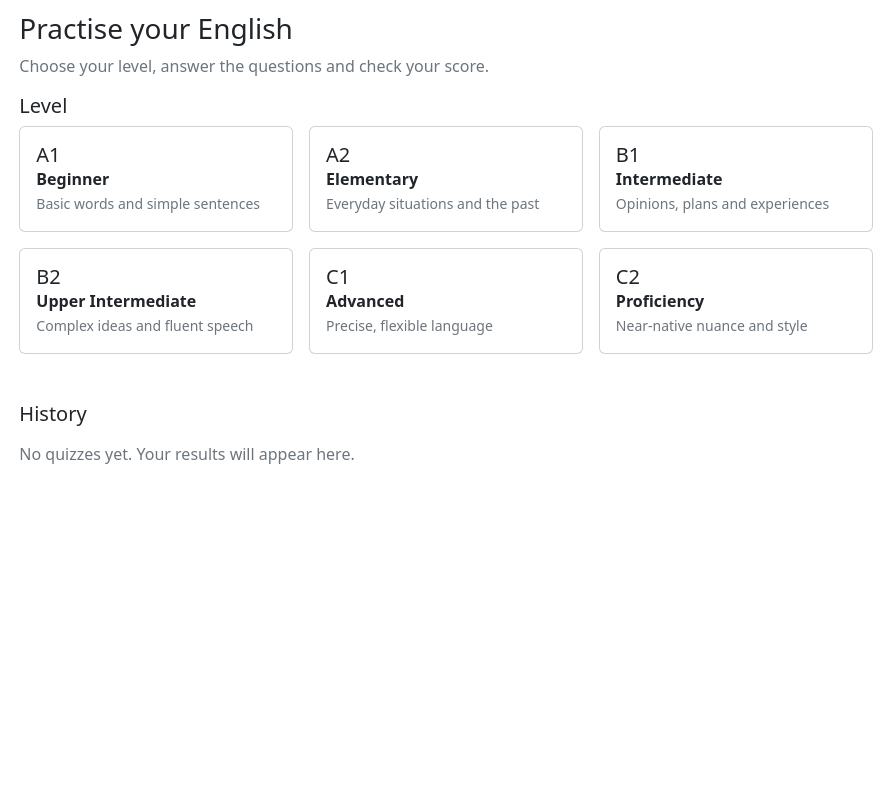
Test case: QuizSetupPage topic filter › starts with all topics when none is selected, and "All topics" clears the selection
The width and height of the screenshot is (893, 806).
Step 1. Click the radio button labelled "A1 Beginner Basic words and simple sentences" → x=156, y=179, box [19,126,293,232]
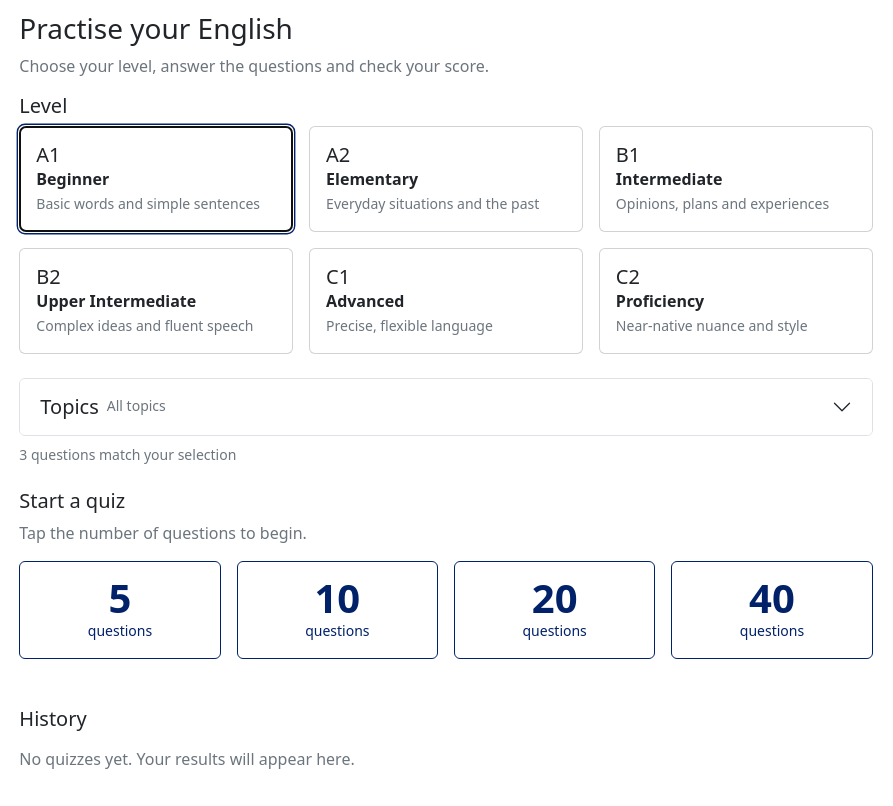
Step 2. Click the button "Topics All topics" → x=70, y=406, box [20,379,872,435]
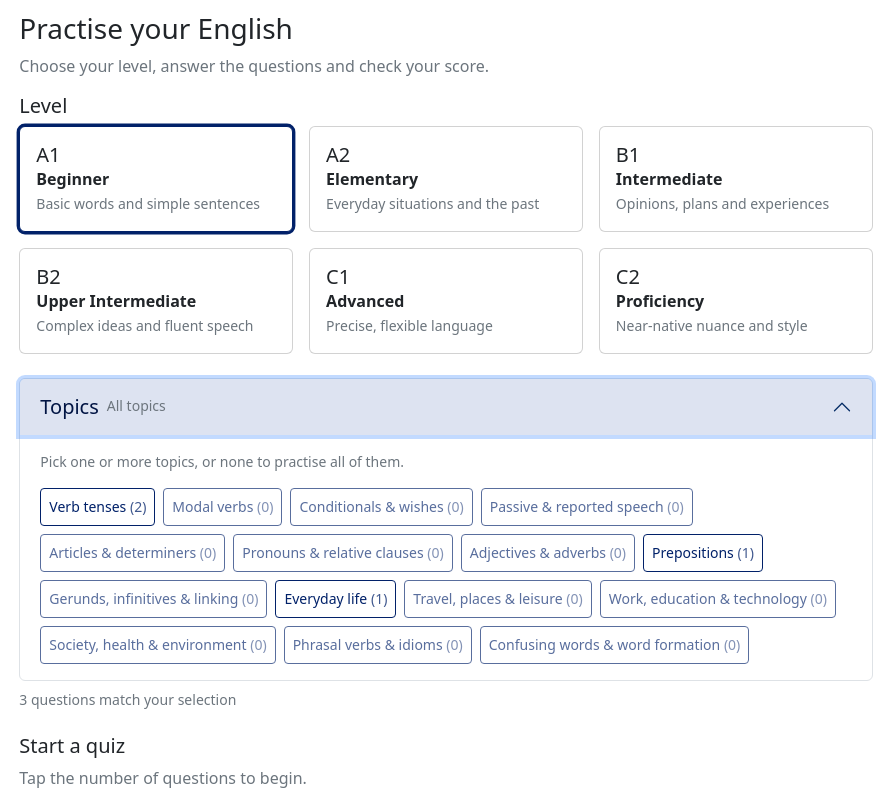
Step 3. Click the button "Everyday life (1)" → x=336, y=599, box [275,580,396,618]
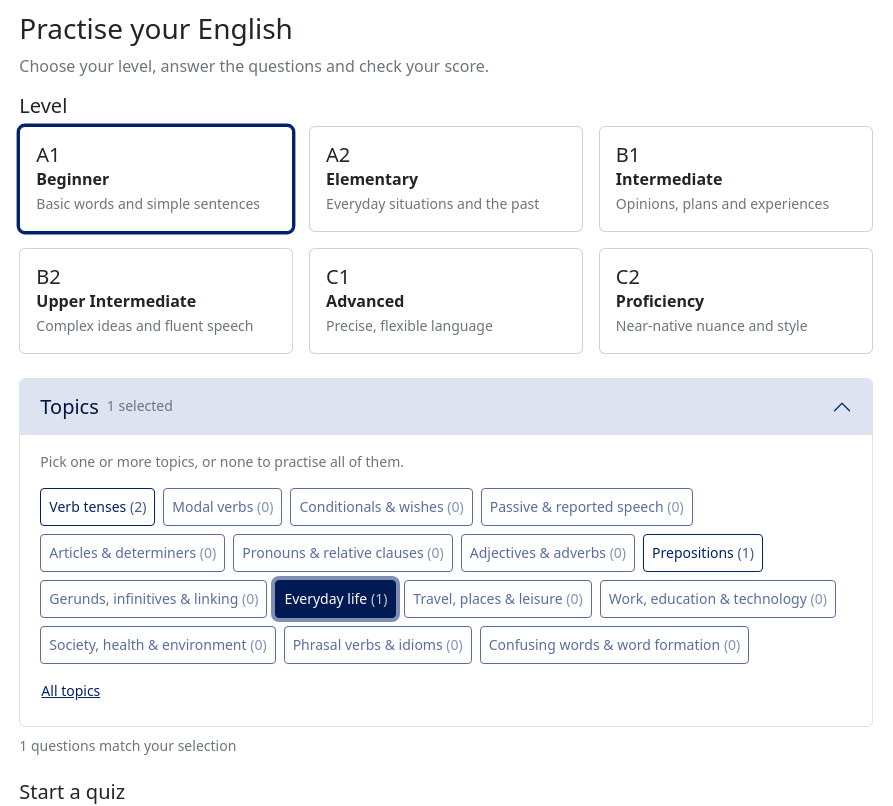
Step 4. Click the button "All topics" → x=71, y=691, box [40,672,101,710]
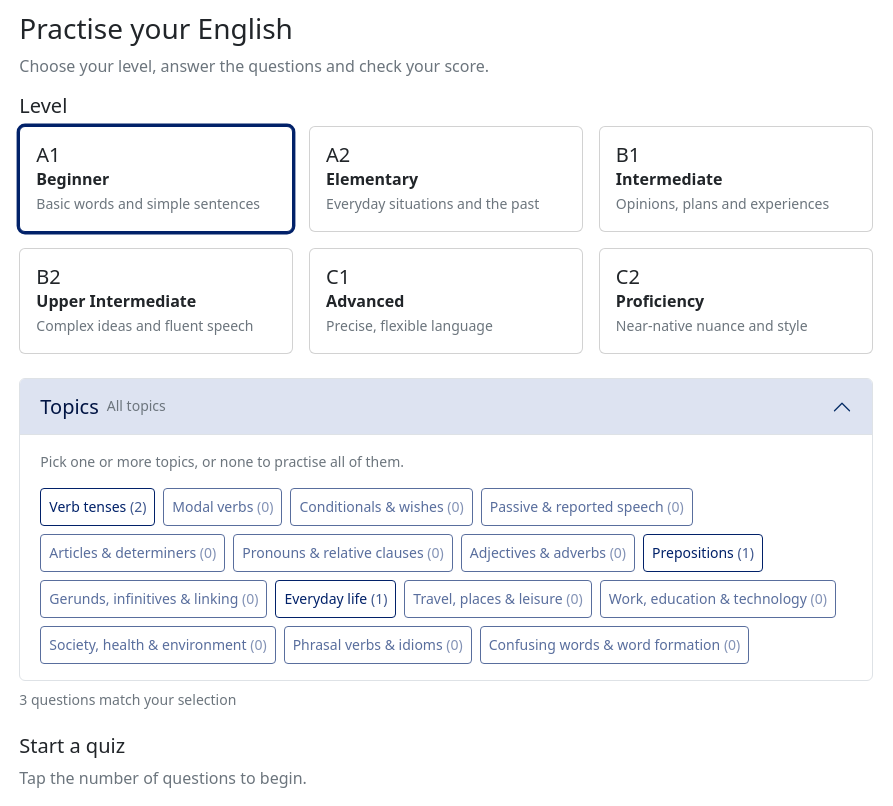
Expected: the text "3 questions match your selection" is shown, [19,690,236,709]
